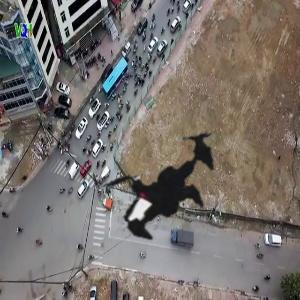drone: (67, 84, 259, 276)
